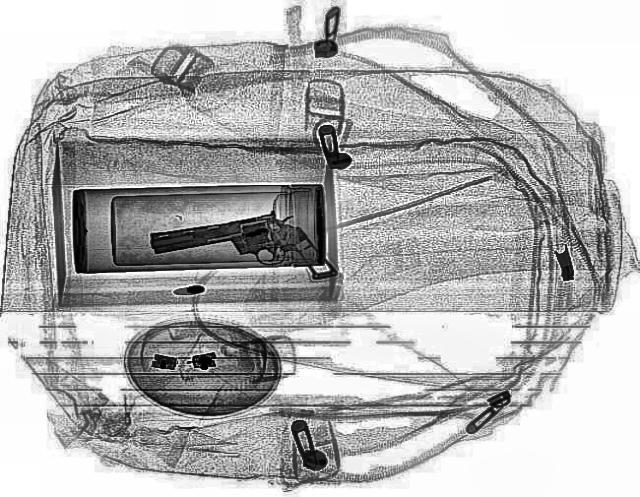Gun: (144, 202, 338, 304)
